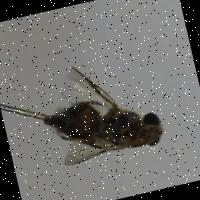Oriental-fruit-fly: (24, 40, 169, 176)
